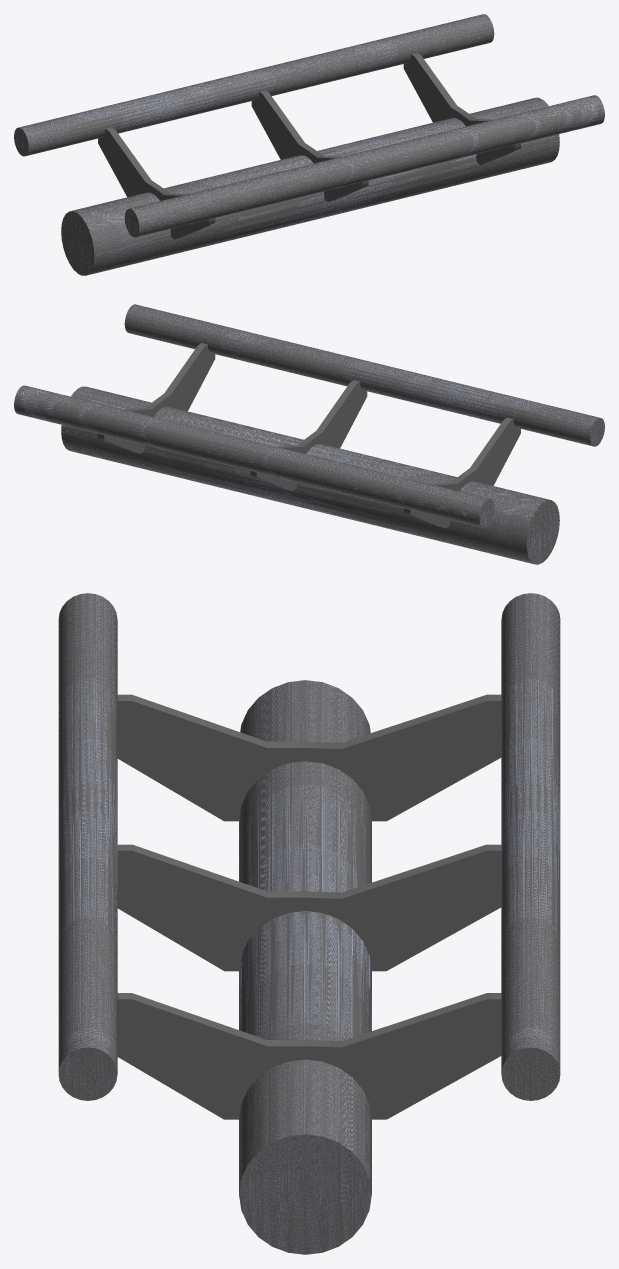
3 renders of one model, top to bottom at view 1: azimuth 30°, elevation 25°; view 2: azimuth 150°, elevation 25°; view 3: azimuth 270°, elevation 25°, orthographic. The views are drawn at different scales.
Parts seen in each view (by area): view 1: SketchUp (×3), group_1, group_0, group_2; view 2: SketchUp (×3), group_0, group_2, group_1; view 3: SketchUp (×3), group_0, group_1, group_2.
Part boxes in pixels (box(x1,y1,x2,y2)): SketchUp (×3): box(14, 14, 604, 275); group_1: box(251, 90, 368, 202); group_0: box(98, 127, 215, 239); group_2: box(403, 52, 520, 164); SketchUp (×3): box(14, 304, 604, 564); group_0: box(403, 417, 520, 528); group_2: box(98, 343, 215, 453); group_1: box(250, 380, 367, 490); SketchUp (×3): box(58, 593, 560, 1254); group_0: box(117, 694, 501, 821); group_1: box(117, 844, 501, 971); group_2: box(117, 993, 501, 1119).
Size of the model in its own units: 72.81 by 34 by 15.5.
